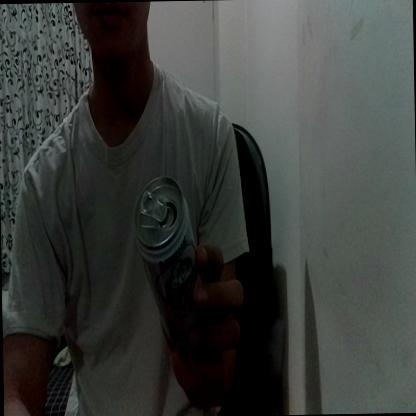alumunium_can: (136, 171, 210, 348)
